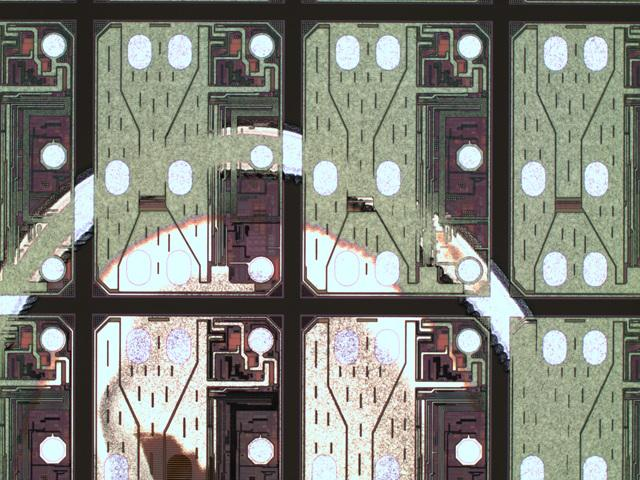BLOCK ETCH: (1, 115, 563, 480)
